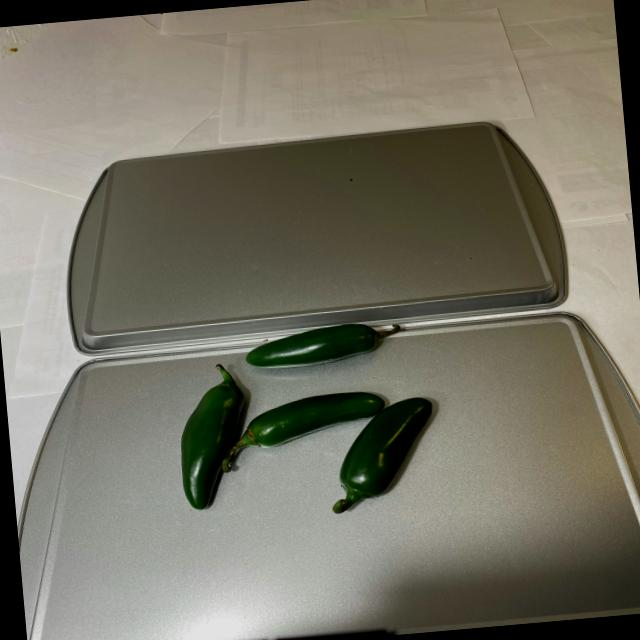chilli: (168, 312, 442, 524)
